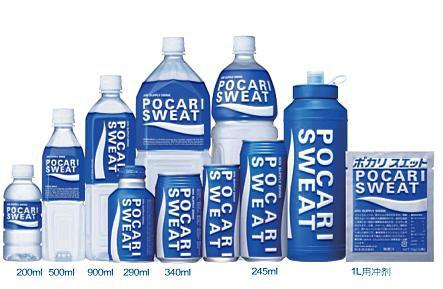POCARI SWEAT: (40, 103, 85, 262)
